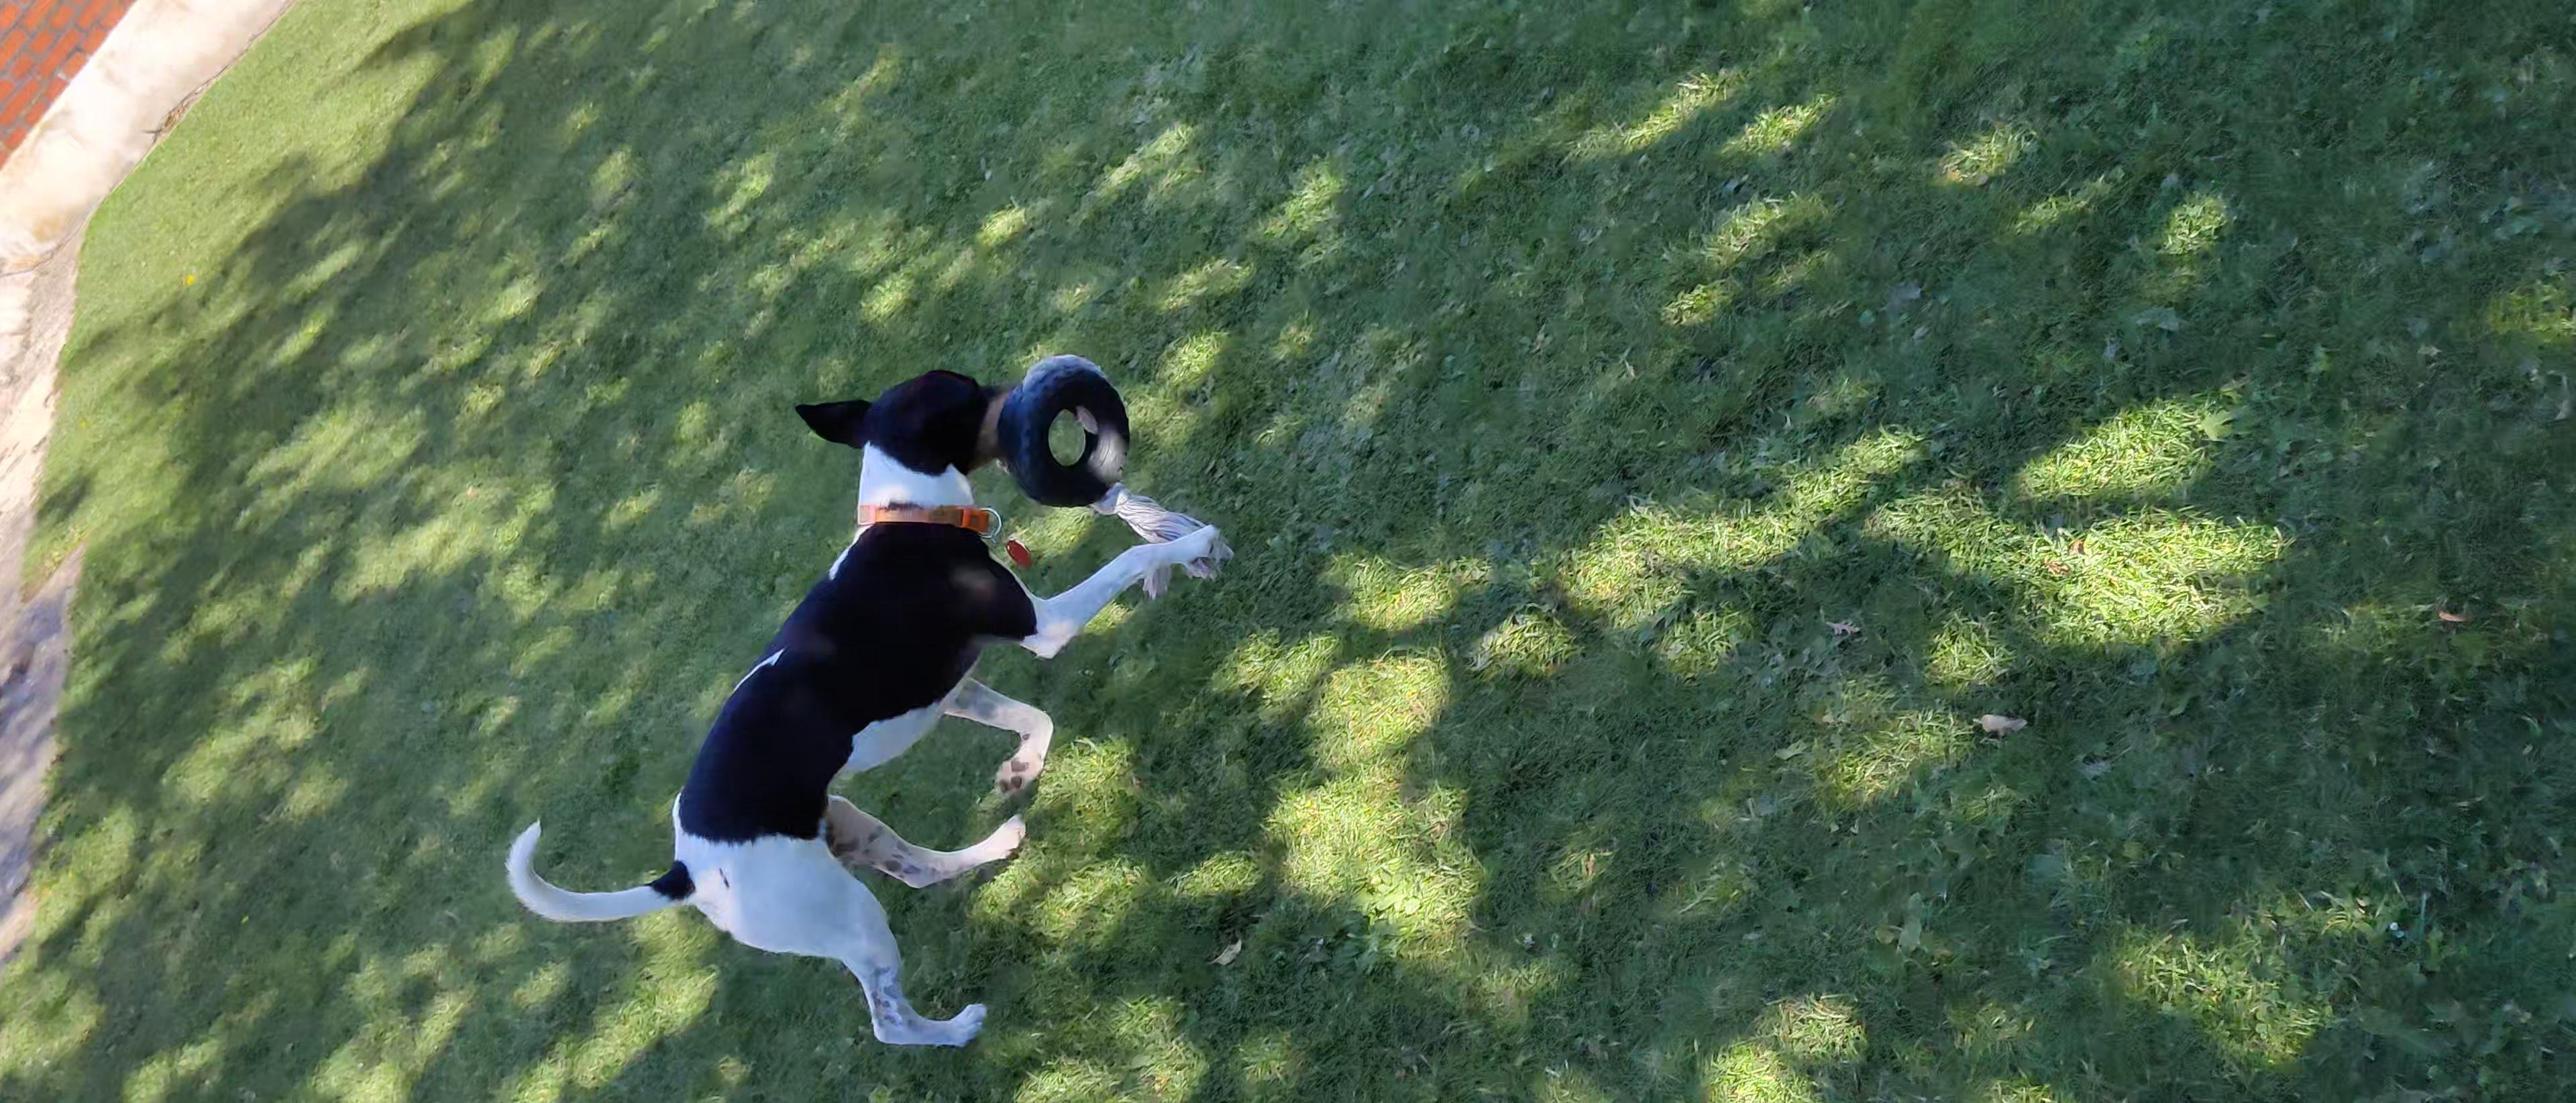Dog: (493, 353, 1224, 1070)
